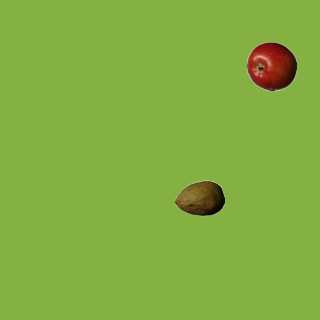Apple Braeburn: (246, 41, 296, 91)
Papaya: (174, 173, 224, 223)
